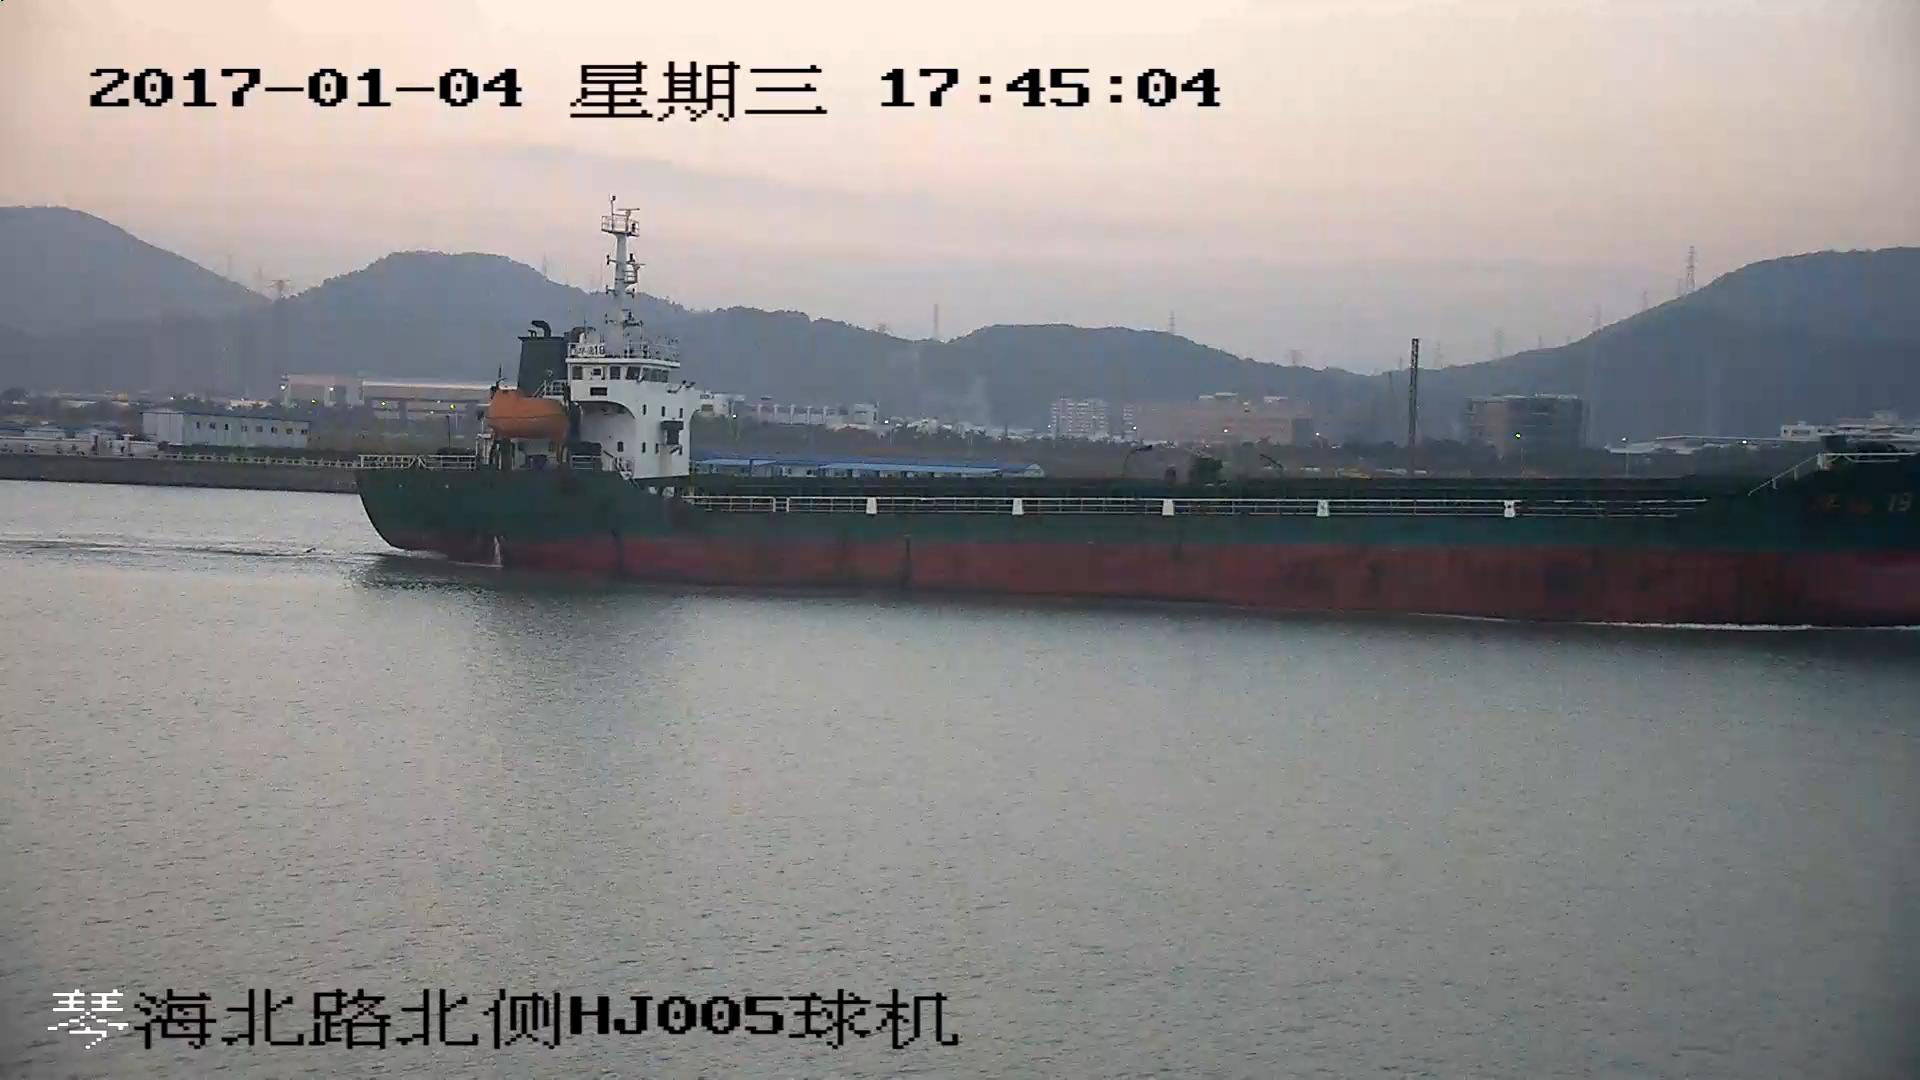general cargo ship: (353, 194, 1920, 628)
